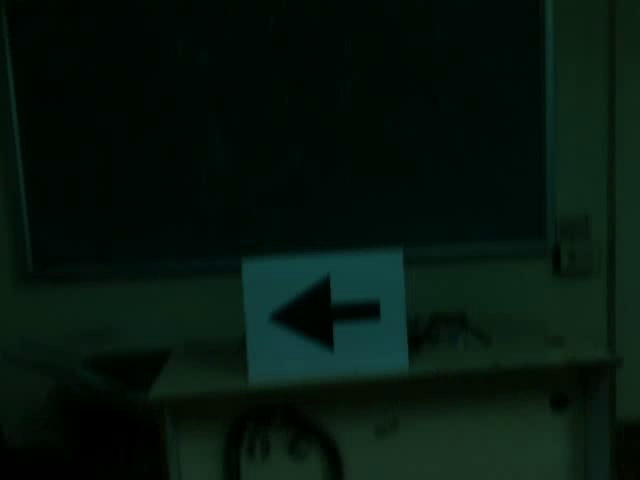Left: (261, 271, 386, 358)
